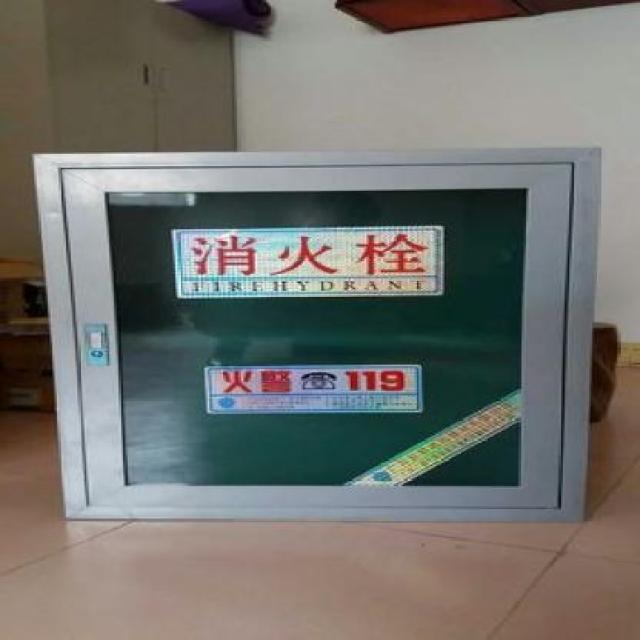firehydrant: (23, 140, 612, 528)
